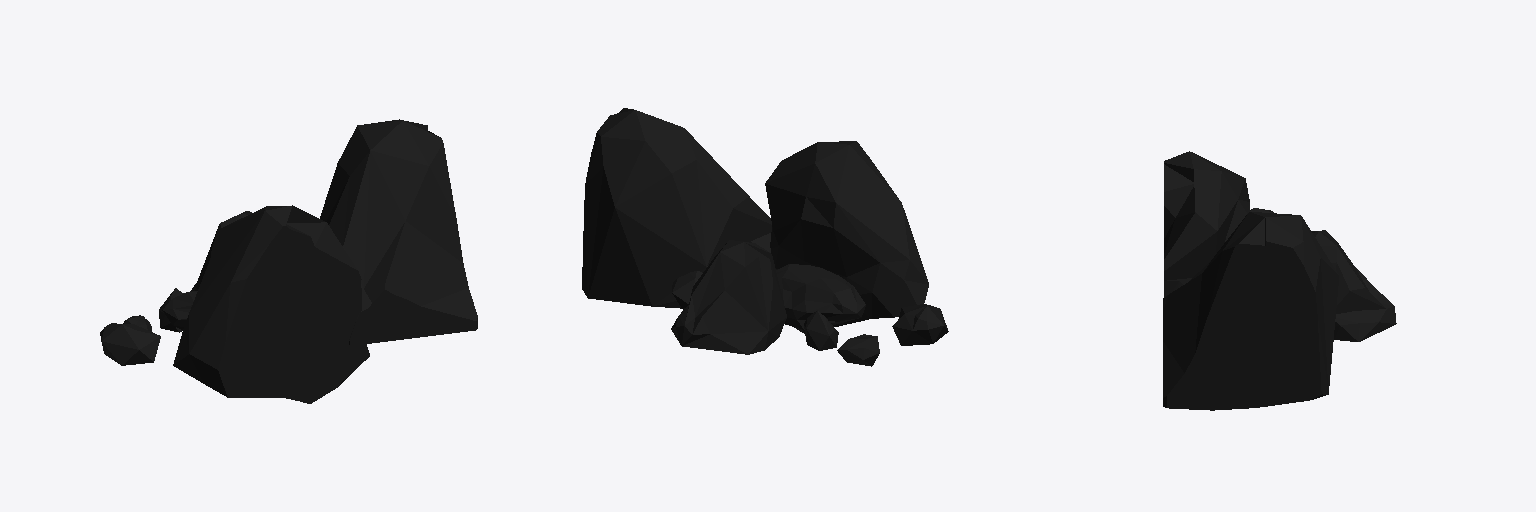
Rendered from rocks.obj.
3 renders of one model, left to right at view 1: azimuth 30°, elevation 25°; view 2: azimuth 150°, elevation 25°; view 3: azimuth 270°, elevation 25°, orthographic.
Parts seen in each view (by area): view 1: Icosphere.002, Icosphere.003, Icosphere.004, Icosphere.036; view 2: Icosphere.003, Icosphere.002, Icosphere.041, Icosphere.036, Icosphere.004, Icosphere.001, Icosphere.031, Icosphere.030; view 3: Icosphere.003, Icosphere.002, Icosphere.041.
Part boxes in pixels (bbox=[...]): Icosphere.002: bbox=[173, 205, 369, 403]; Icosphere.003: bbox=[320, 119, 477, 346]; Icosphere.004: bbox=[100, 323, 160, 365]; Icosphere.036: bbox=[162, 291, 197, 329]; Icosphere.003: bbox=[582, 108, 771, 308]; Icosphere.002: bbox=[765, 141, 928, 333]; Icosphere.041: bbox=[671, 240, 786, 354]; Icosphere.036: bbox=[776, 264, 865, 329]; Icosphere.004: bbox=[892, 304, 948, 345]; Icosphere.001: bbox=[837, 334, 879, 366]; Icosphere.031: bbox=[804, 310, 838, 350]; Icosphere.030: bbox=[672, 271, 702, 309]; Icosphere.003: bbox=[1163, 212, 1338, 410]; Icosphere.002: bbox=[1164, 151, 1249, 297]; Icosphere.041: bbox=[1311, 230, 1396, 341].
Bounding box in the file's own units: 12.1 × 7.47 × 7.39.